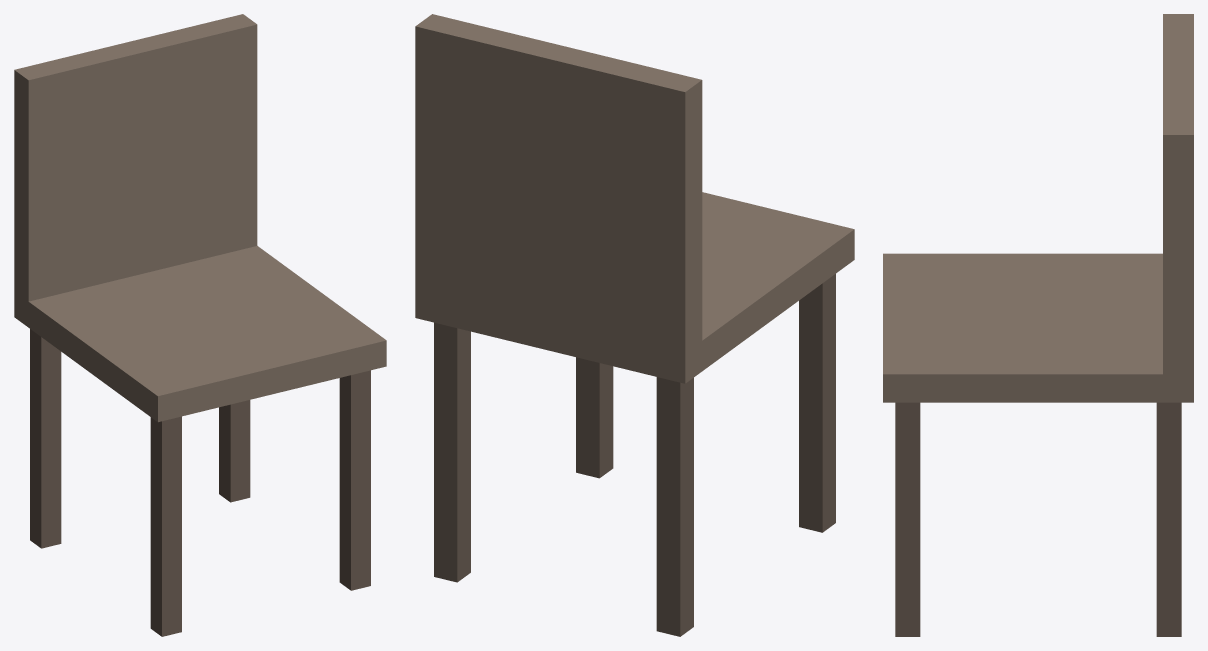
File: cat_chair_dining-basic.glb
3 renders of one model, left to right at view 1: azimuth 30°, elevation 25°; view 2: azimuth 150°, elevation 25°; view 3: azimuth 270°, elevation 25°, orthographic. The views are drawn at different scales.
Parts seen in each view (by area): view 1: geometry_1, geometry_0, geometry_3, geometry_5, geometry_2, geometry_4; view 2: geometry_1, geometry_0, geometry_2, geometry_4, geometry_3, geometry_5; view 3: geometry_0, geometry_1, geometry_4, geometry_5.
Boxes of the visible parts, x1,y1,x2,y2 form: geometry_1: [14, 14, 257, 314]; geometry_0: [14, 246, 386, 422]; geometry_3: [150, 416, 181, 636]; geometry_5: [339, 370, 370, 590]; geometry_2: [30, 329, 61, 548]; geometry_4: [219, 400, 250, 502]; geometry_1: [415, 14, 702, 368]; geometry_0: [415, 192, 854, 383]; geometry_2: [656, 377, 693, 636]; geometry_4: [434, 322, 470, 582]; geometry_3: [799, 274, 835, 532]; geometry_5: [576, 357, 613, 478]; geometry_0: [883, 253, 1193, 402]; geometry_1: [1163, 14, 1193, 388]; geometry_4: [1156, 402, 1181, 636]; geometry_5: [895, 402, 920, 636].
Bounding box in the file's own units: 0.46 × 0.9 × 0.5.
